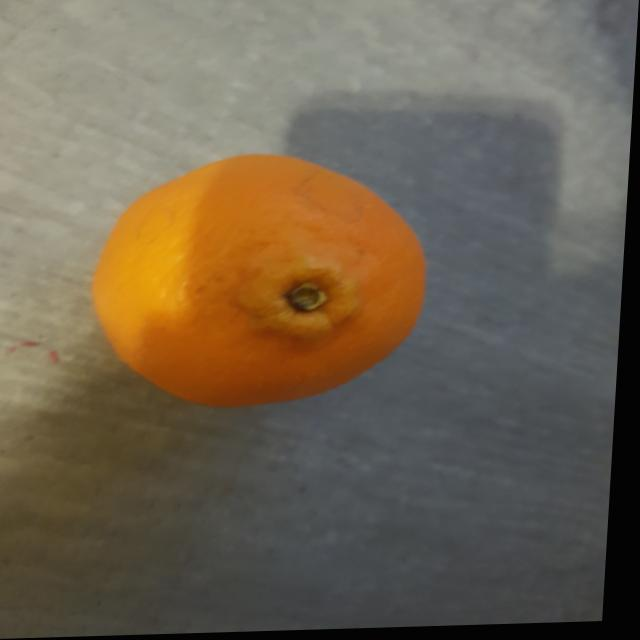Orange: (94, 155, 431, 412)
